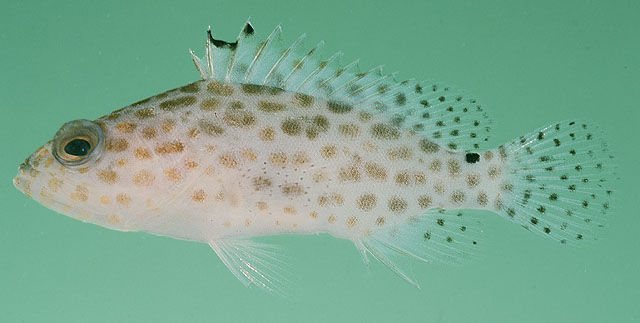fish: (12, 15, 620, 301)
